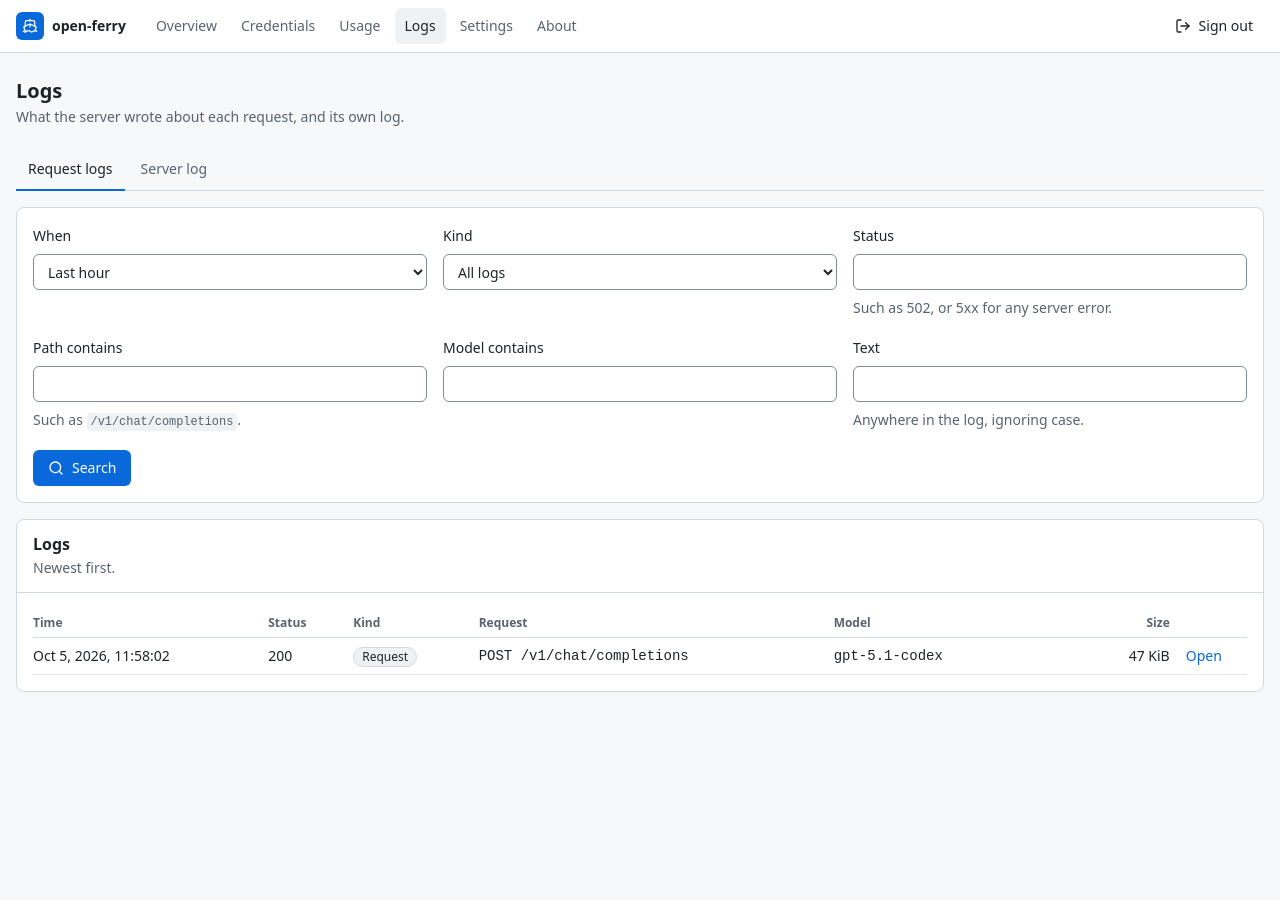
Test: the request log search › comes back from a log to the same results, without searching again
Step 1. Click the link with aria-label "Open v1-chat-completions-2026-10-05T115802-1234abcd.log" → [1204, 656], box [1186,646,1222,665]
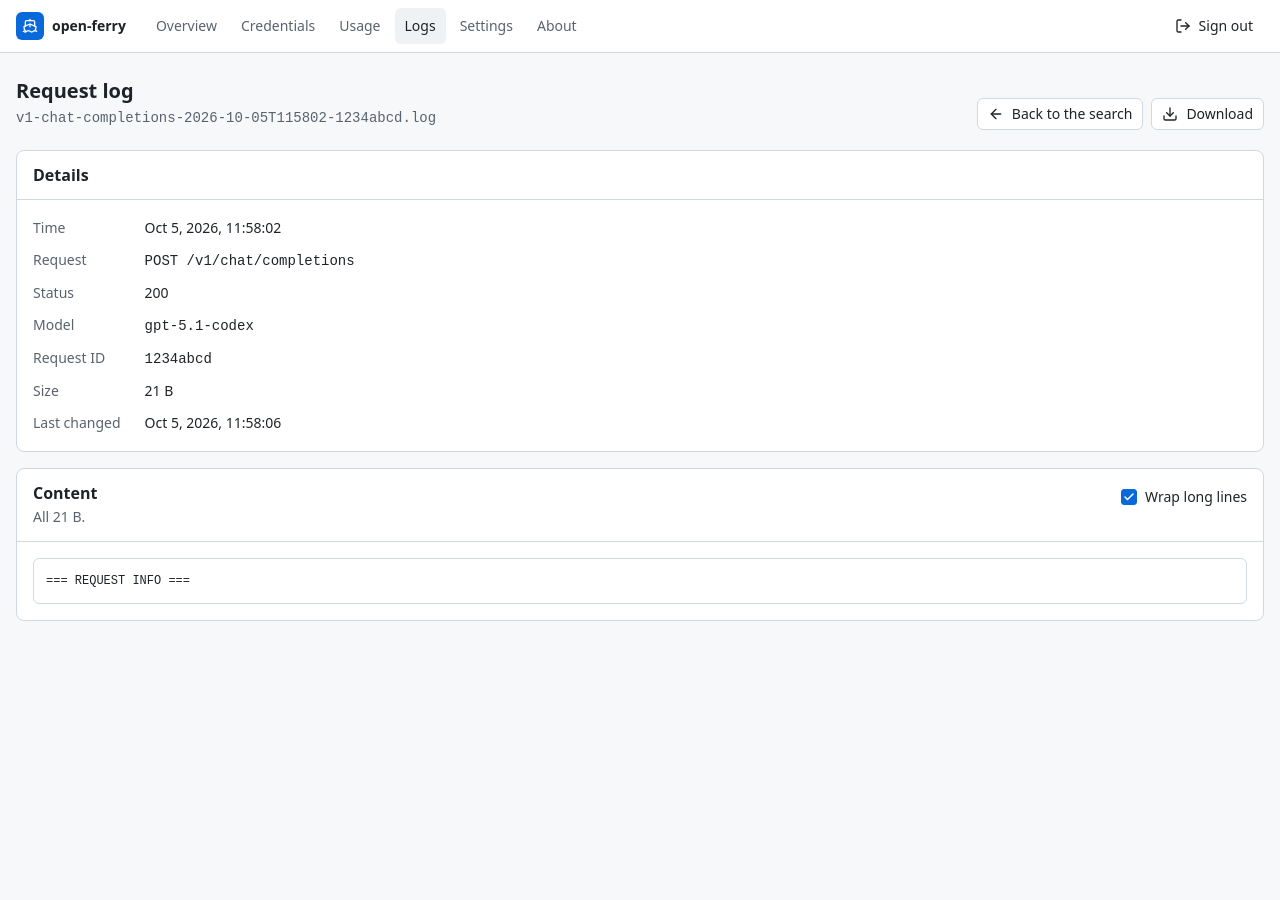
Now the heading "Request log" is shown, box [16,77,134,104]
Step 2. Click the button "Back to the search" → [1060, 114], box [977,98,1143,130]
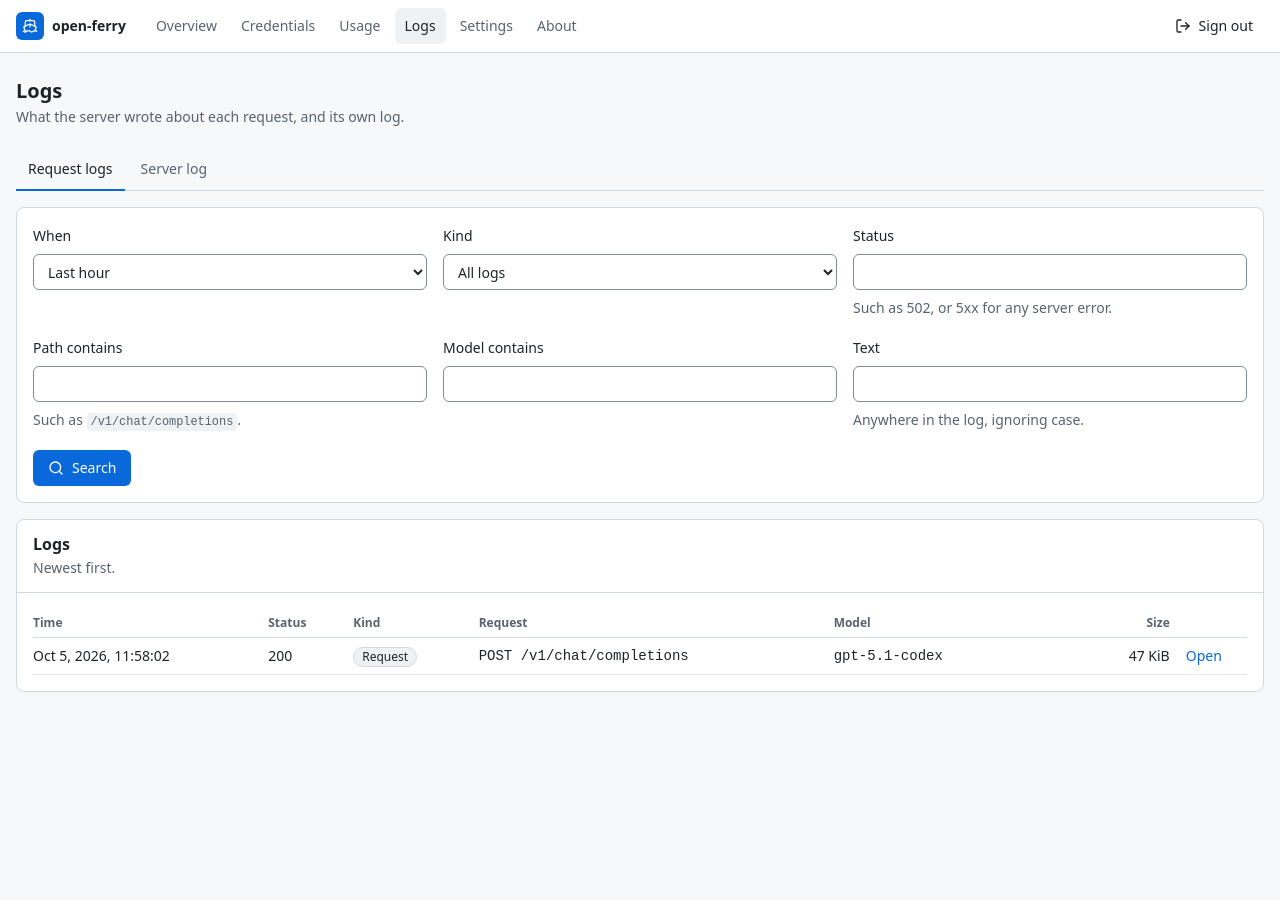
Now the table named "Request logs, newest first" is shown, box [33,609,1247,675]
